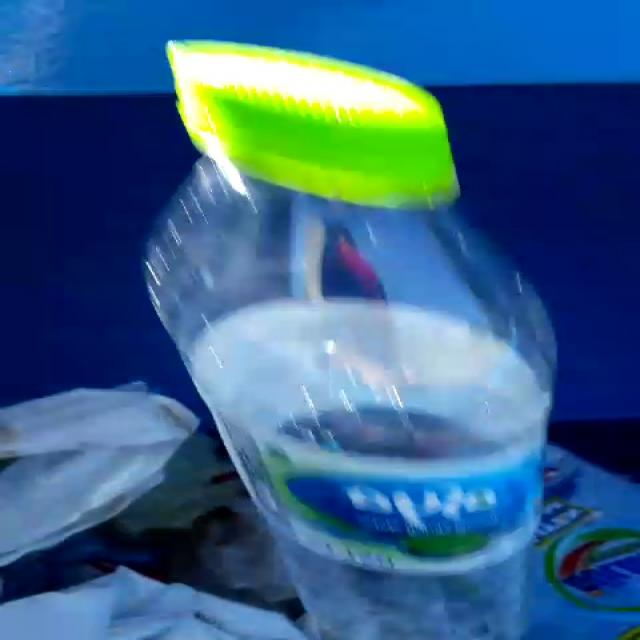plastic: (144, 41, 553, 640)
